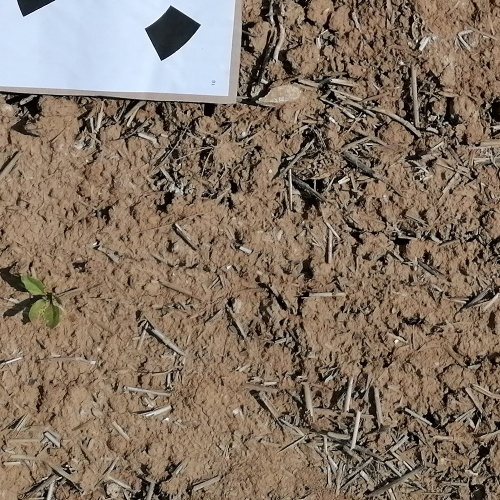beet: (20, 274, 61, 328)
